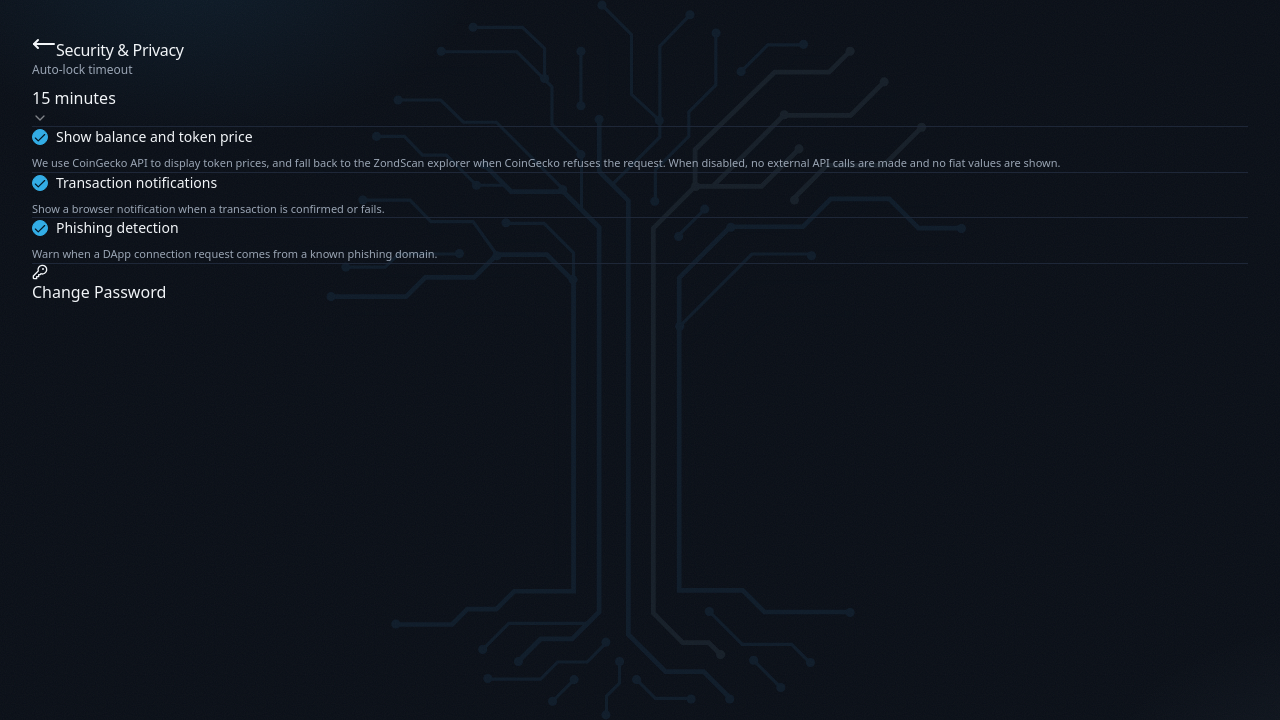
Scenario: SettingsSecurity › Change Password › should show validation error when new passwords don't match
This screenshot has width=1280, height=720.
Click the button "Change Password".
click(99, 284)  # box x1=32 y1=264 x2=166 y2=304
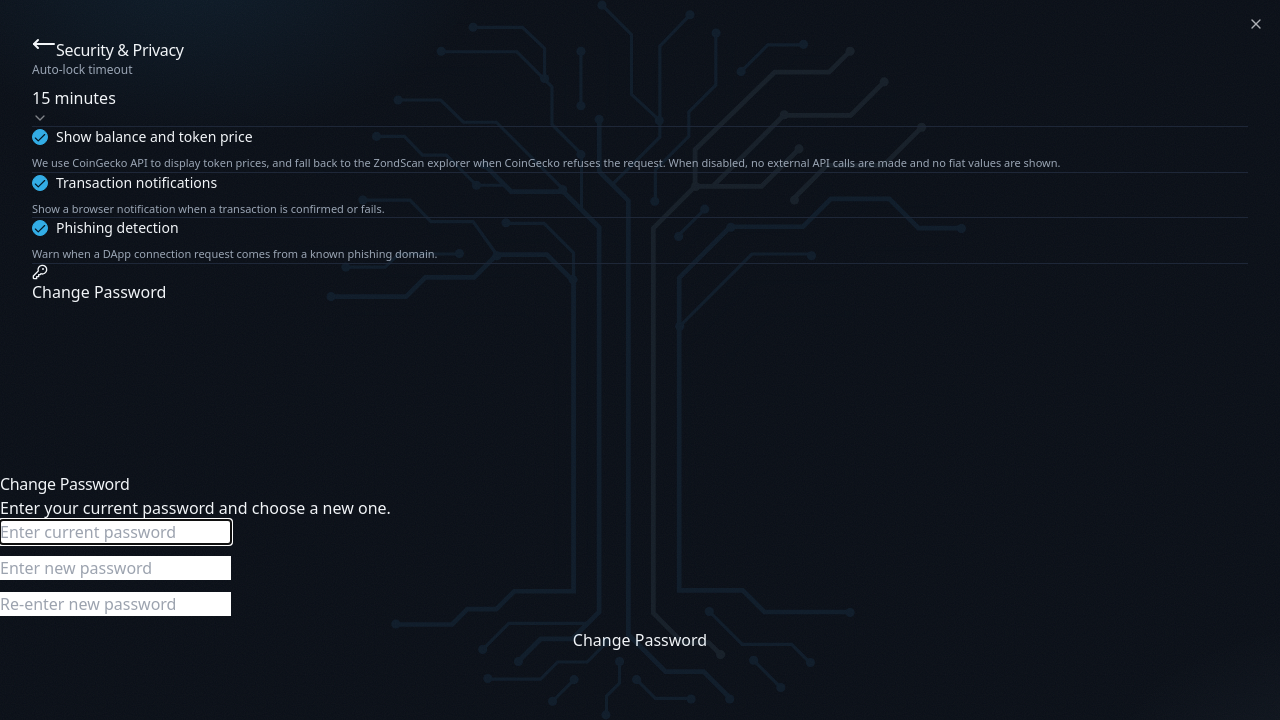
Type "oldpass12345" into the password field labelled "current password".
click(116, 532); type("oldpass12345")  # box x1=0 y1=520 x2=231 y2=544
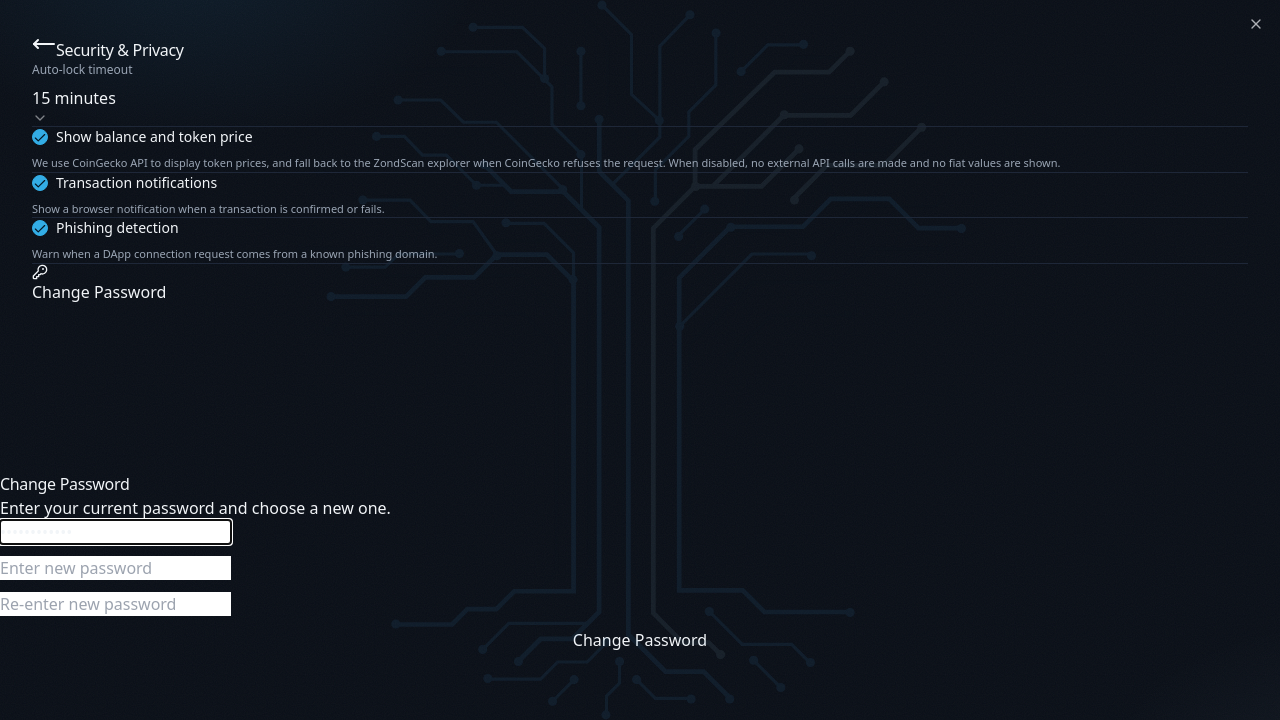
Type "newpass12345" into the password field labelled "new password".
click(116, 568); type("newpass12345")  # box x1=0 y1=556 x2=231 y2=580
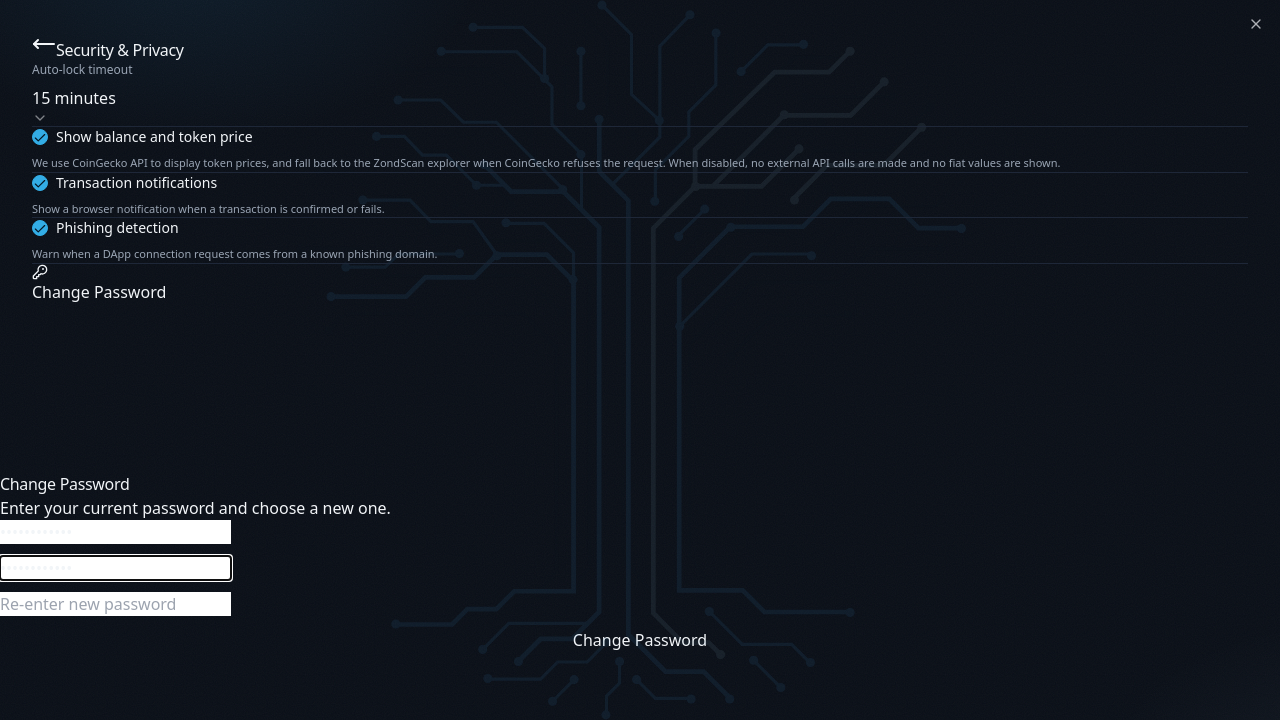
Type "different123" into the password field named "Confirm new password".
click(116, 604); type("different123")  # box x1=0 y1=592 x2=231 y2=616
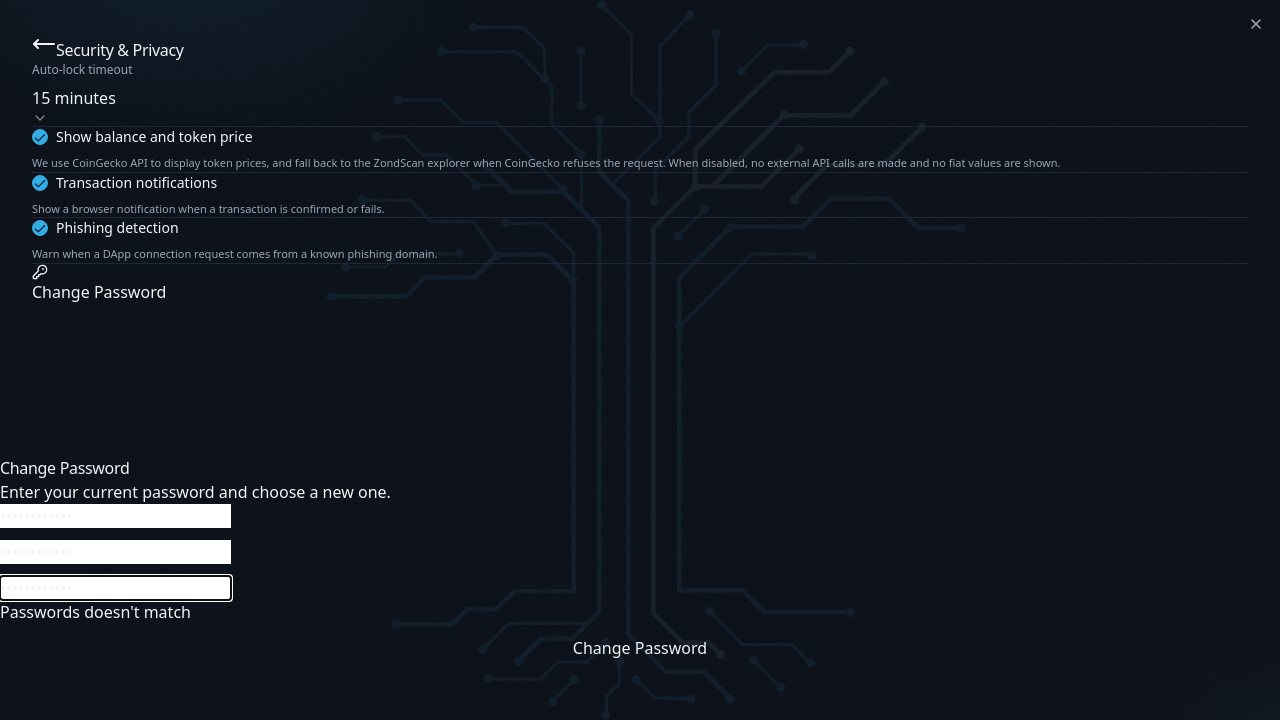
expect the text "Passwords doesn't match" is shown: met, box x1=0 y1=601 x2=191 y2=623
